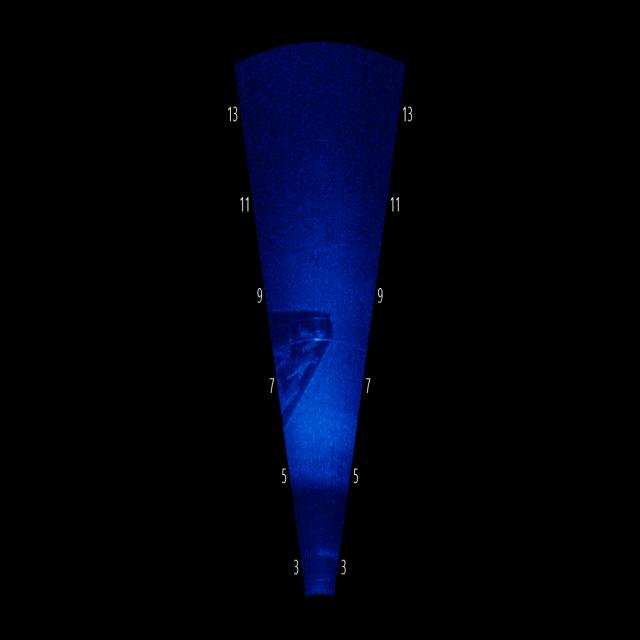triangle: (264, 305, 335, 425)
